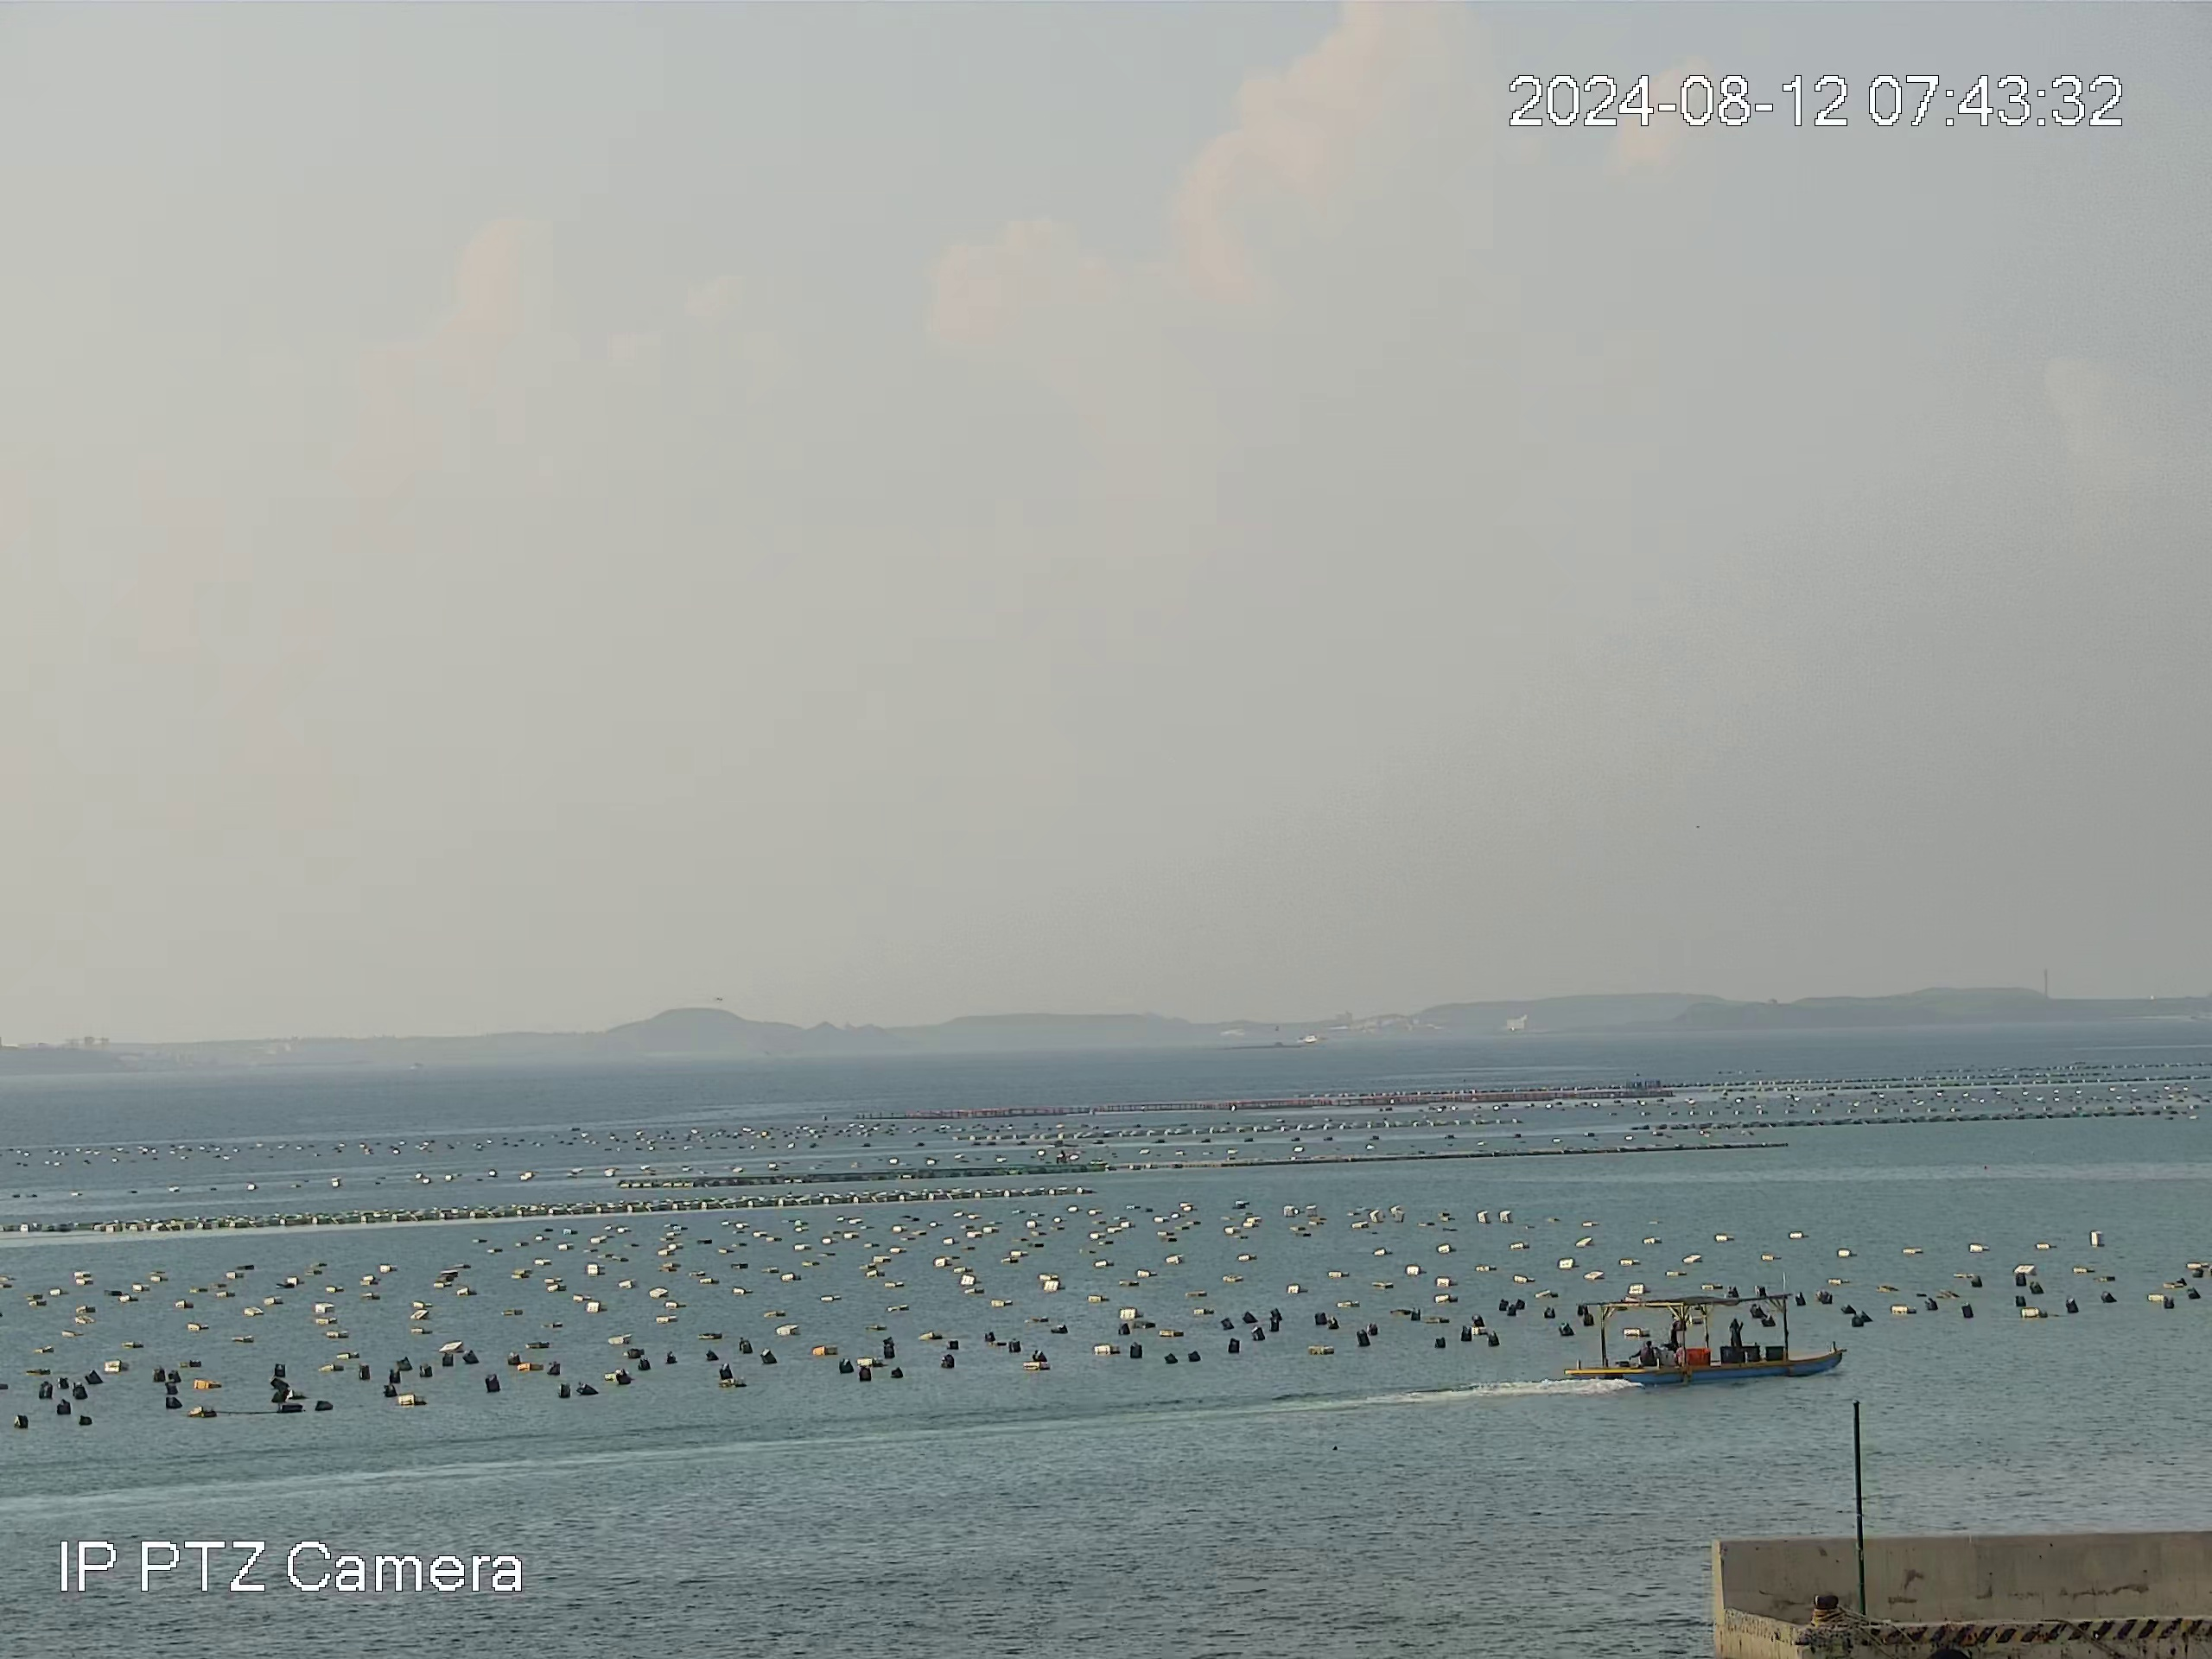boat: (1557, 1286, 1855, 1391)
